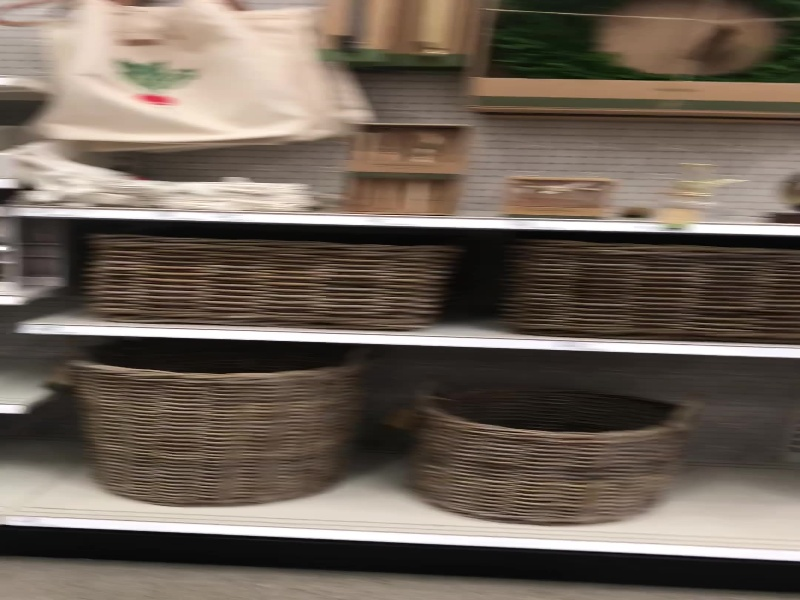void: (701, 355, 800, 548), (1, 405, 72, 511)
